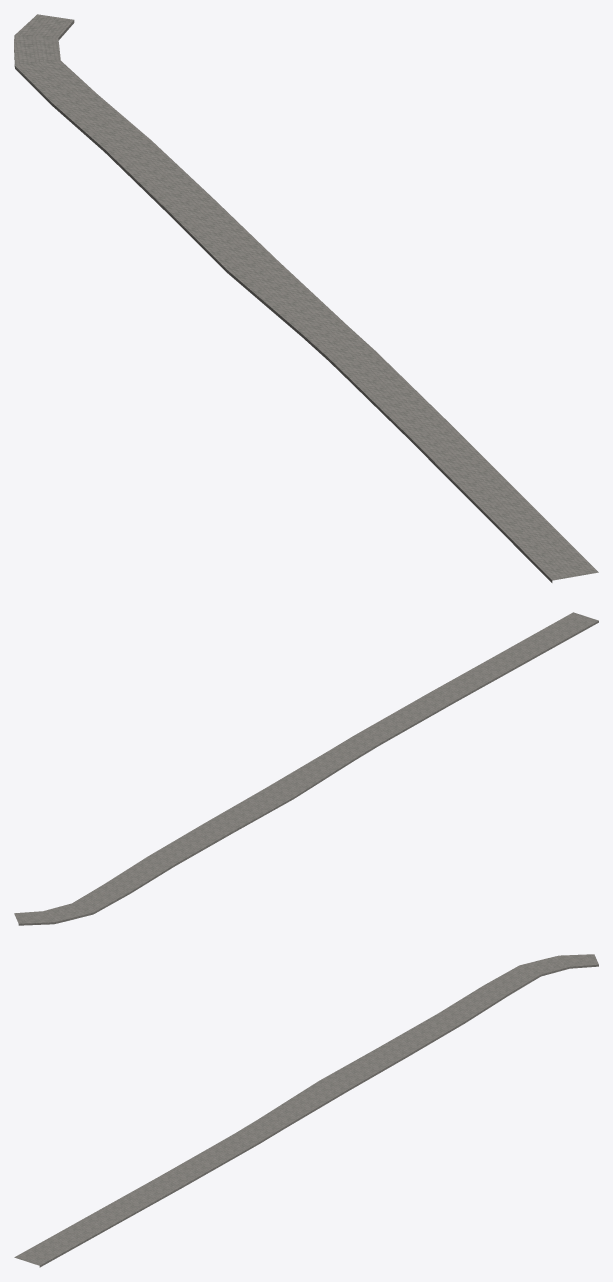
The picture shows the model from 3 angles, top to bottom: view 1: azimuth 30°, elevation 25°; view 2: azimuth 150°, elevation 25°; view 3: azimuth 330°, elevation 25°; orthographic projection. The views are drawn at different scales.
Visible parts, largest first — view 1: geometry_0; view 2: geometry_0; view 3: geometry_0.
Part boxes in pixels (left/top/right/bottom): geometry_0: left=14, top=14, right=598, bottom=582; geometry_0: left=14, top=612, right=598, bottom=925; geometry_0: left=14, top=954, right=598, bottom=1267.
Bounding box in the file's own units: 24.77 × 0.3495 × 142.
Materials: 1 (1 with a texture image).
